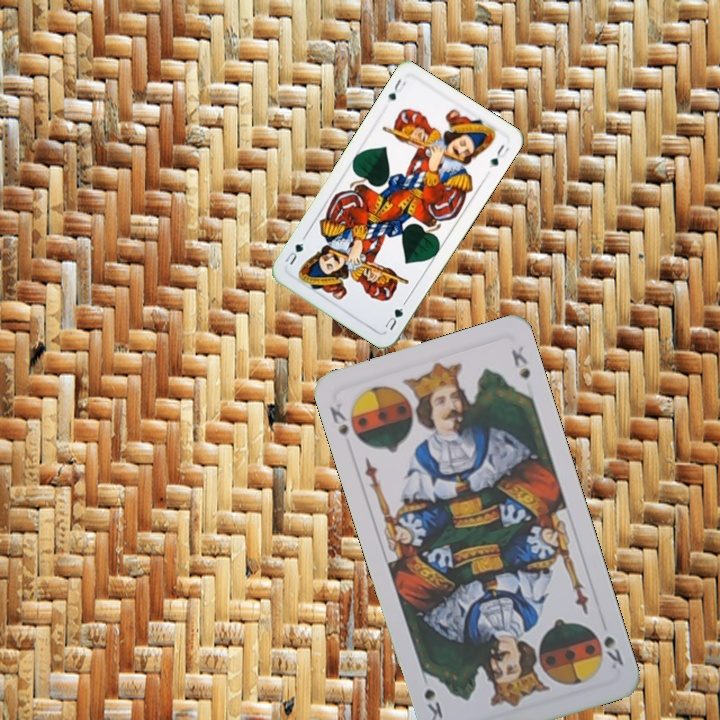GU: (380, 304, 406, 333), (384, 75, 409, 103)
SK: (325, 396, 351, 440), (599, 631, 626, 672)
